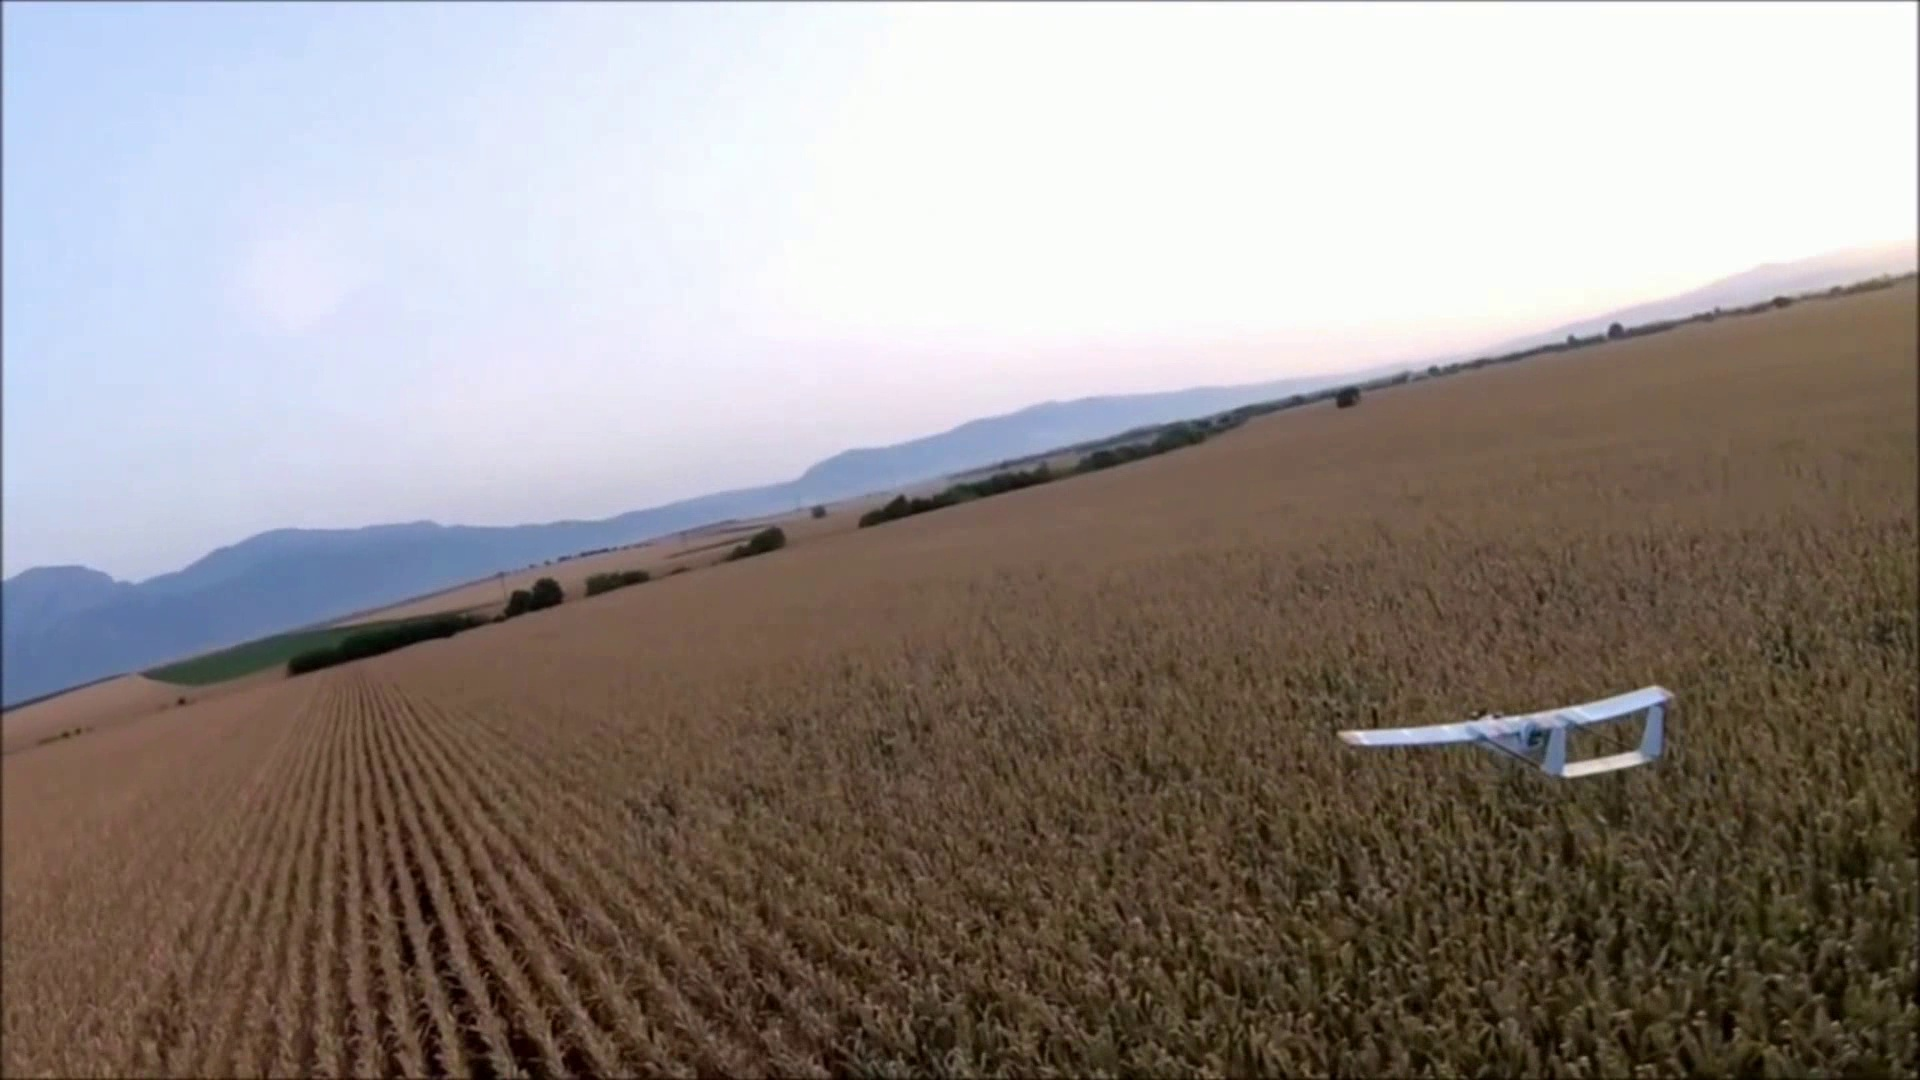airplane: (21, 249, 1884, 721), (1338, 686, 1677, 785)
